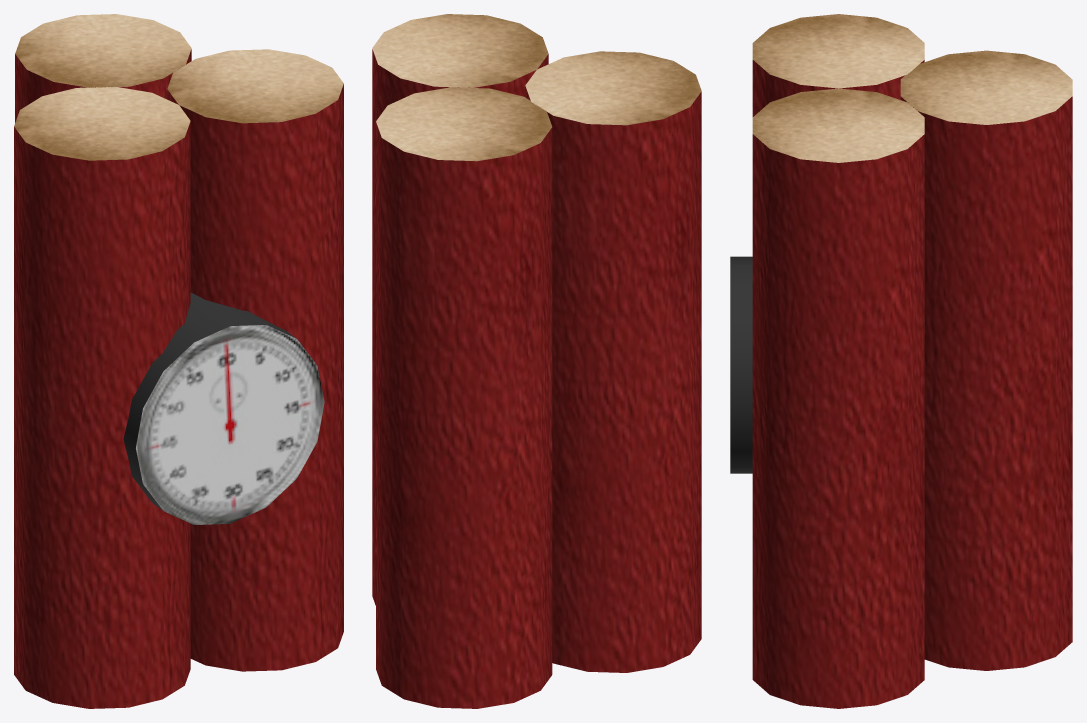
File: Boomb.FBX
The picture shows the model from 3 angles, left to right: view 1: azimuth 30°, elevation 25°; view 2: azimuth 150°, elevation 25°; view 3: azimuth 270°, elevation 25°; orthographic projection.
Parts seen in each view (by area): view 1: Cylinder003; view 2: Cylinder003; view 3: Cylinder003.
Boxes of the visible parts, x1=… form: Cylinder003: x1=14, y1=14, x2=343, y2=708; Cylinder003: x1=372, y1=14, x2=701, y2=708; Cylinder003: x1=730, y1=14, x2=1072, y2=708.
Size of the model in its own units: 1.25 by 2.13 by 1.21.
1 material, 1 textured.
